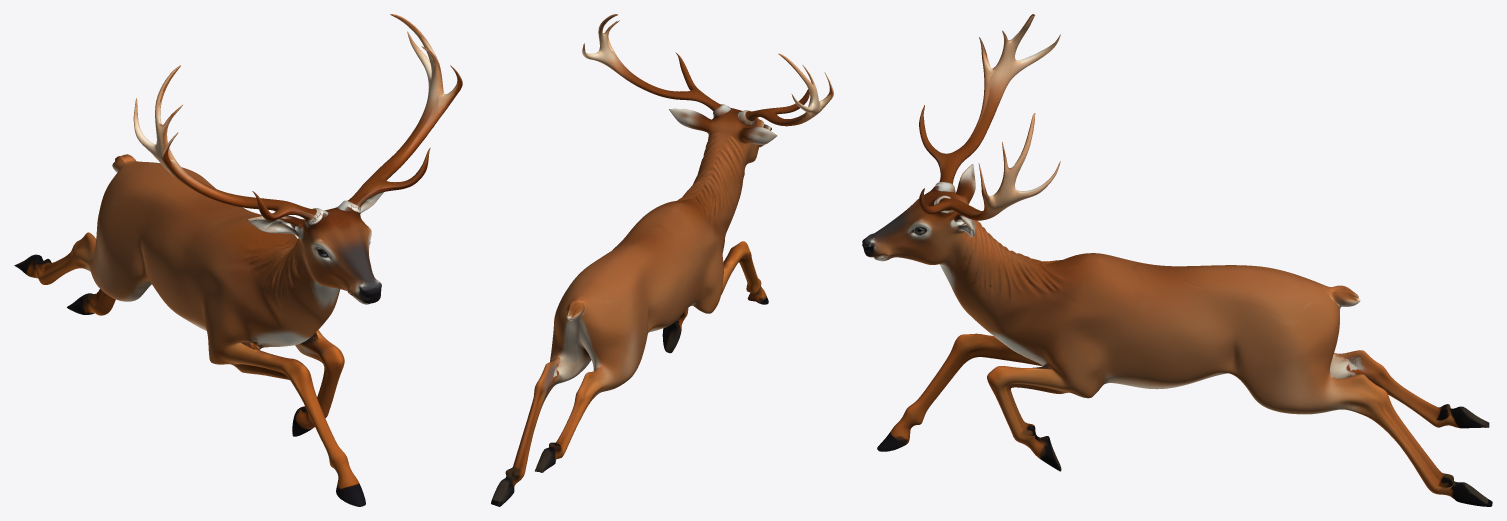
File: run.glb
The picture shows the model from 3 angles, left to right: view 1: azimuth 30°, elevation 25°; view 2: azimuth 150°, elevation 25°; view 3: azimuth 270°, elevation 25°; orthographic projection. The views are drawn at different scales.
Bounding box in the file's own units: 1 × 1.43 × 1.9.
1 material, 1 textured.
